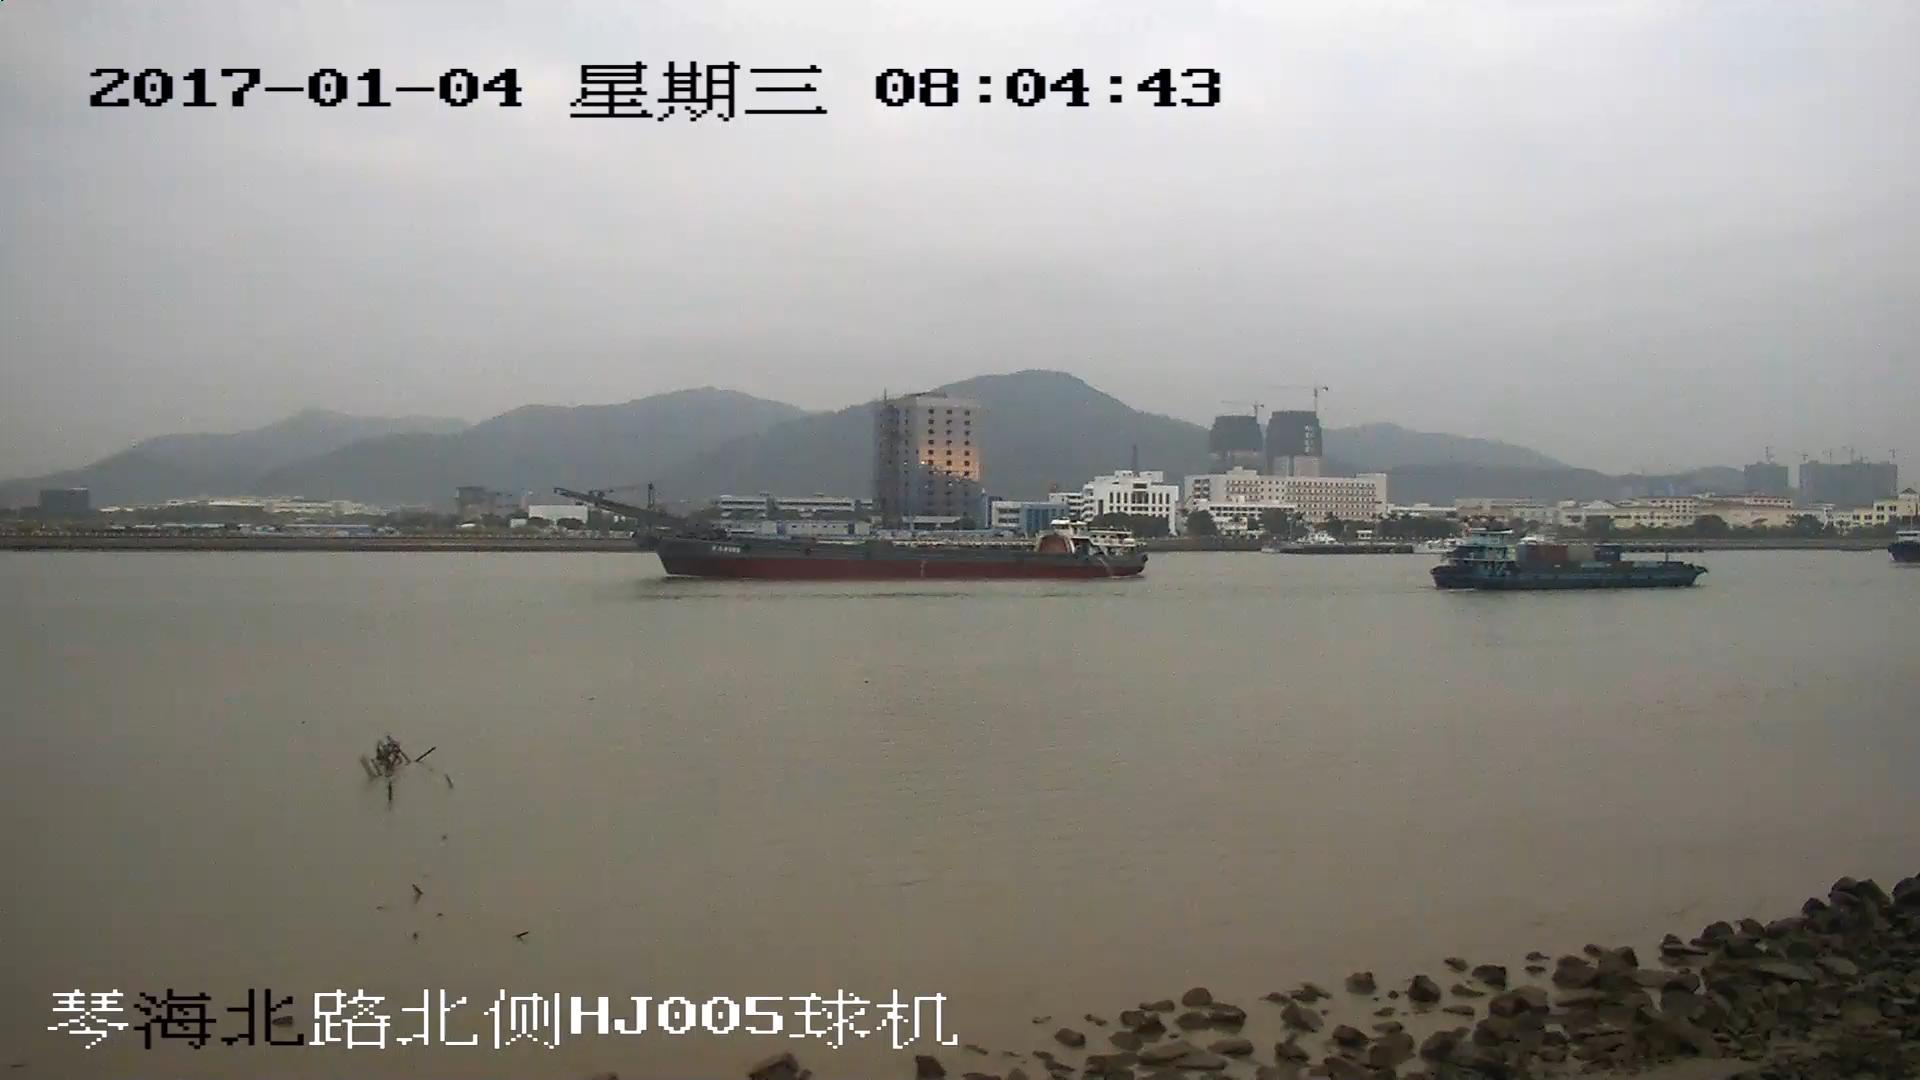Ship: (555, 491, 1150, 582), (1431, 541, 1702, 589)
